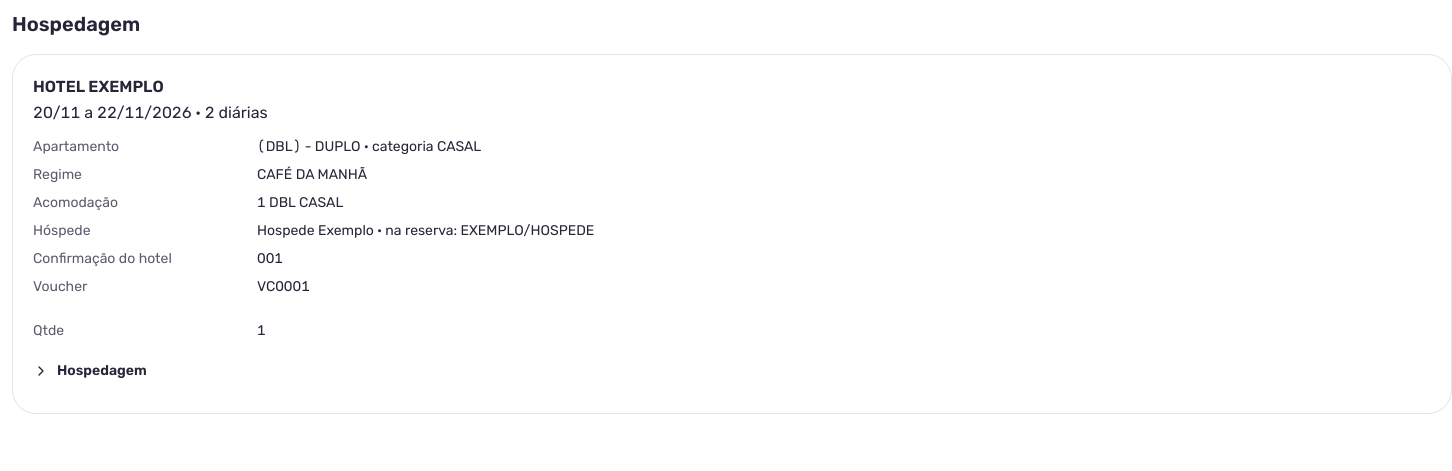
Test: Hospedagem › o campo recolhido vai num details com o nome do grupo no Anexo B
Expected: the text "ROTA EXEMPLO" is not shown
Click the heading "Hospedagem" below "Qtde" at (90, 370), box [33,362,147,379]
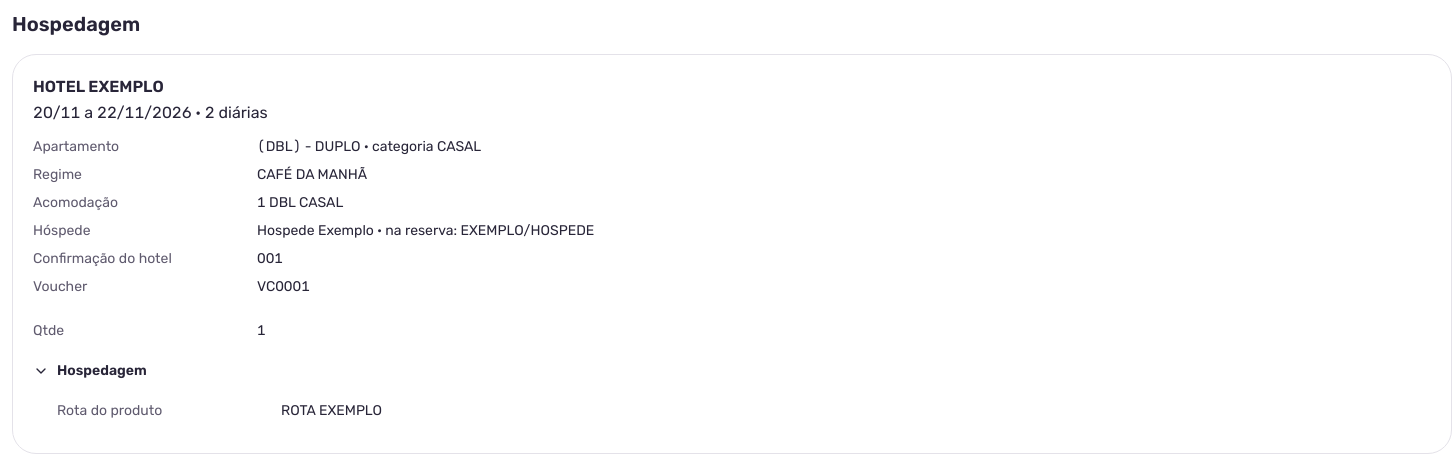
Expected: the text "ROTA EXEMPLO" is shown, [281,402,382,419]
